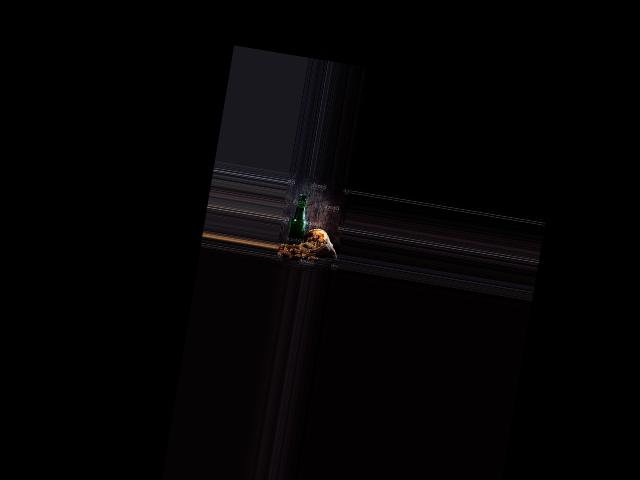beer: (286, 192, 310, 250)
